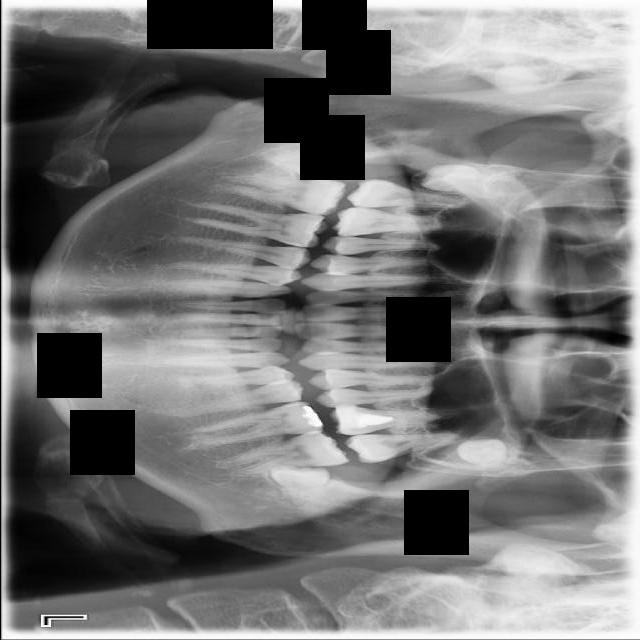3M ESPE Implant: (418, 155, 517, 209)
52: (272, 389, 327, 447), (329, 401, 383, 439)
73: (373, 409, 458, 430), (58, 612, 67, 620)
BioHorizons Implant: (344, 429, 471, 464)
BioLife Implant: (456, 439, 505, 469)
Biomet 3i Implant: (267, 464, 331, 509)
Caries: (346, 178, 468, 210)
Implant: (213, 427, 351, 479), (214, 172, 348, 217)
Keystone Dental Implant: (253, 139, 352, 185)
